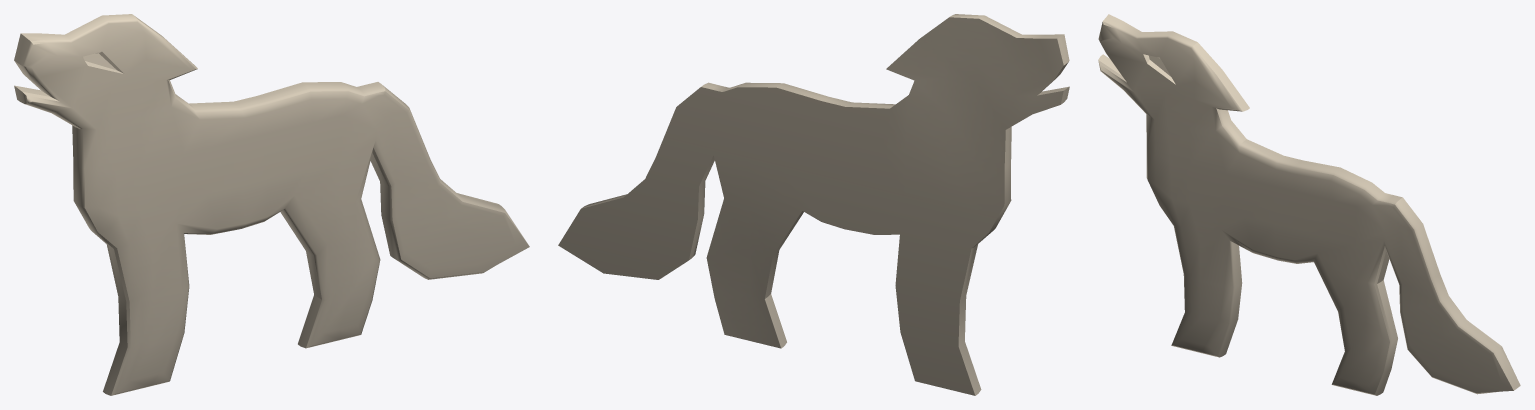
File: susi_reliefi.fbx
3 views of the same model, side by side, from view 1: azimuth 30°, elevation 25°; view 2: azimuth 150°, elevation 25°; view 3: azimuth 330°, elevation 25° (orthographic). The views are drawn at different scales.
Visible parts, largest first — view 1: pPlane3; view 2: pPlane3; view 3: pPlane3.
Part boxes in pixels (bbox=[...]): pPlane3: bbox=[14, 14, 529, 395]; pPlane3: bbox=[558, 14, 1069, 395]; pPlane3: bbox=[1098, 14, 1520, 395].
Size of the model in its own units: 1.16 by 0.8297 by 0.0442.
